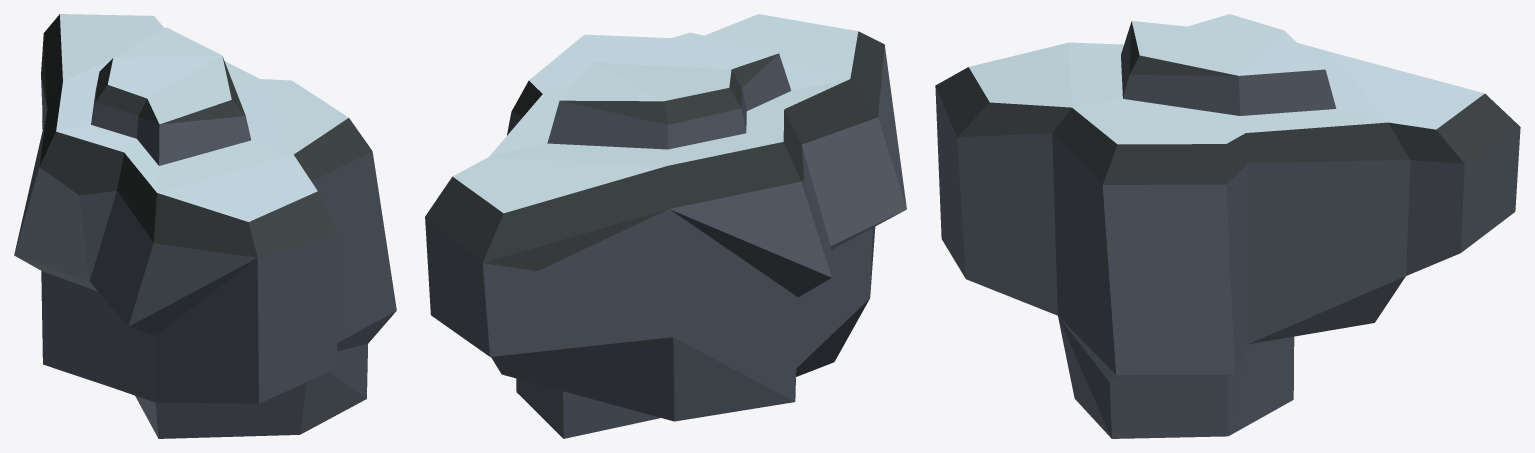
File: SM_Env_Generic_Cliffs_05_Snow.fbx
3 renders of one model, left to right at view 1: azimuth 30°, elevation 25°; view 2: azimuth 150°, elevation 25°; view 3: azimuth 270°, elevation 25°, orthographic. The views are drawn at different scales.
Visible parts, largest first — view 1: SM_Env_Generic_Cliffs_05_Snow; view 2: SM_Env_Generic_Cliffs_05_Snow; view 3: SM_Env_Generic_Cliffs_05_Snow.
Boxes of the visible parts, <box> form: SM_Env_Generic_Cliffs_05_Snow: <box>14,14,396,438</box>; SM_Env_Generic_Cliffs_05_Snow: <box>425,14,906,438</box>; SM_Env_Generic_Cliffs_05_Snow: <box>935,14,1520,438</box>.
Size of the model in its own units: 78.01 by 73.69 by 119.
1 material, 1 textured.
